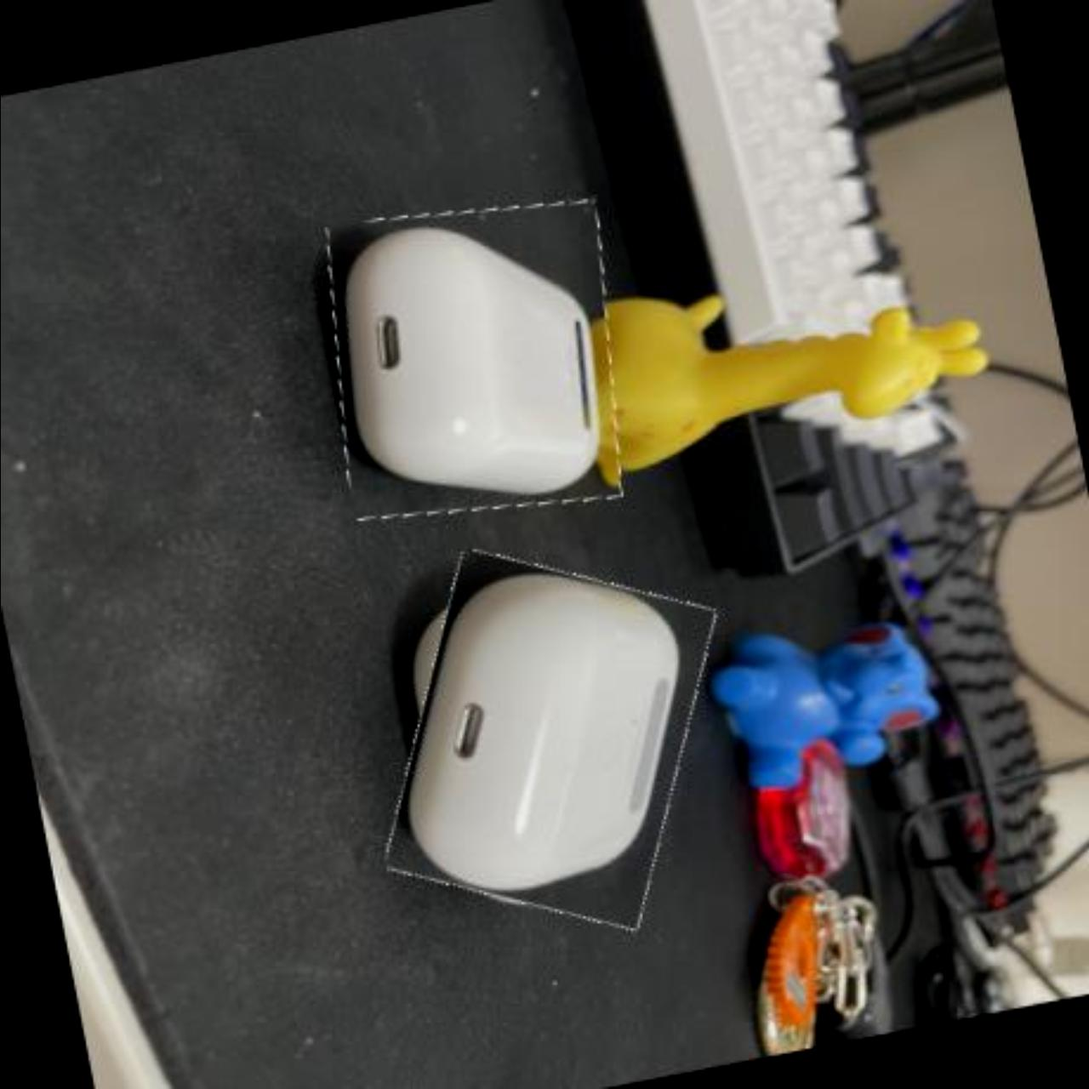AirPods: (360, 527, 741, 948), (307, 180, 643, 538)
